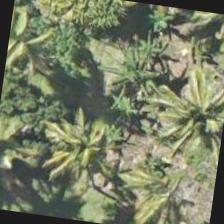Kelapa_Sawit: (25, 102, 127, 204), (121, 151, 219, 223), (153, 59, 223, 158), (2, 0, 71, 97)
